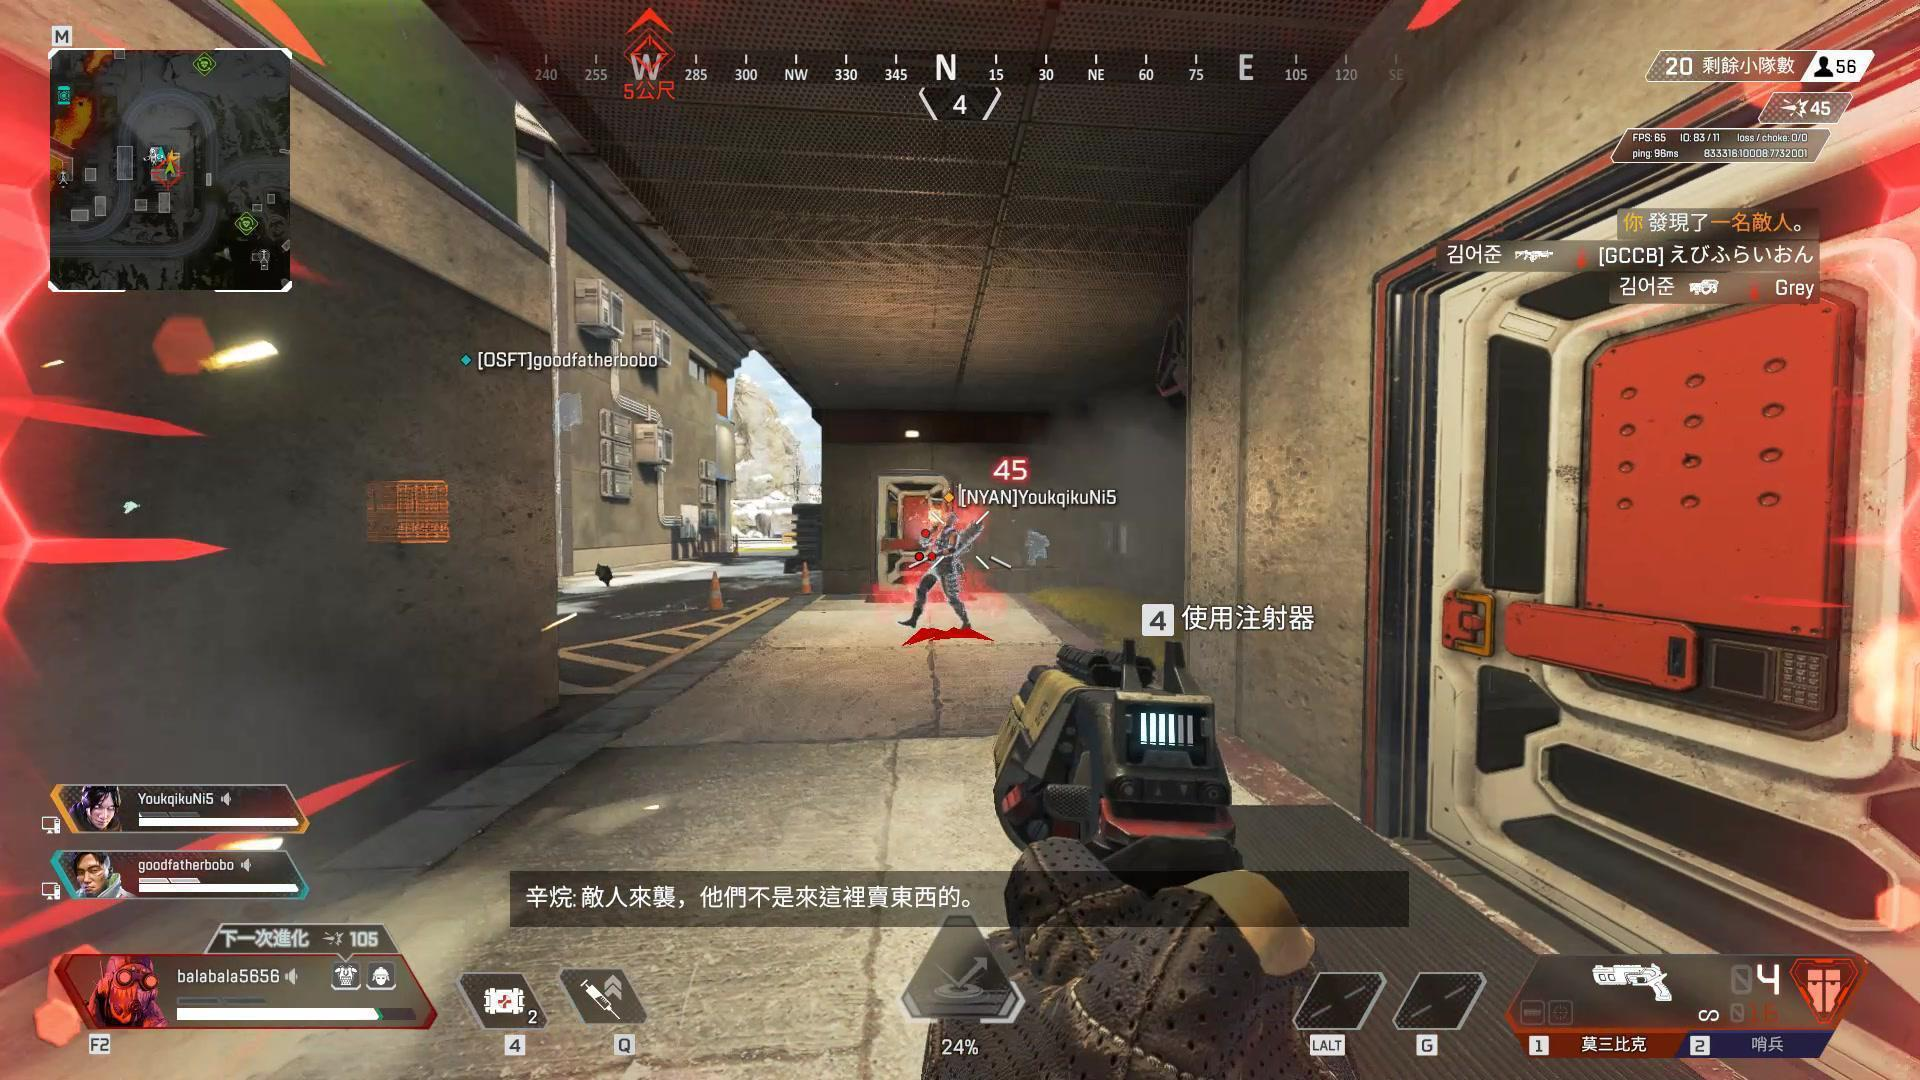avatar: (895, 508, 987, 634)
